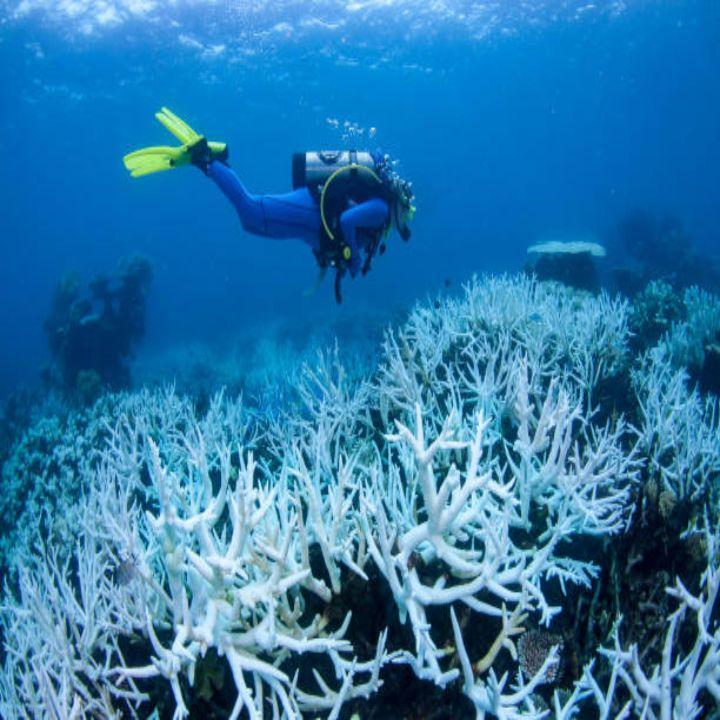Bleached disease: (16, 299, 708, 715)
